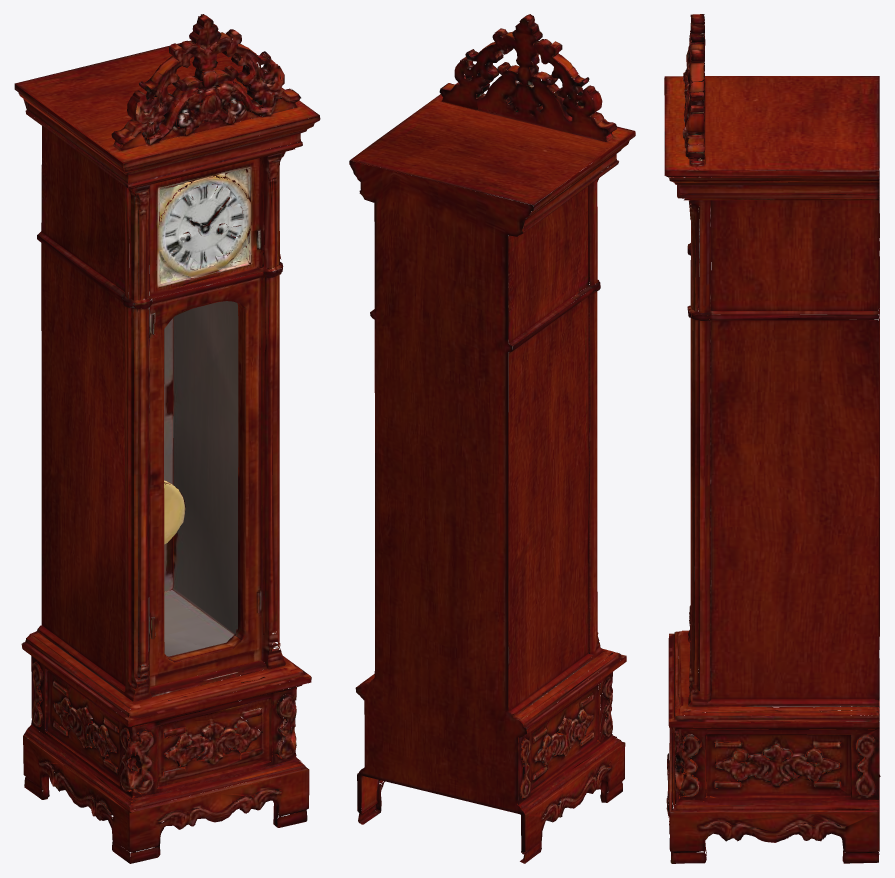
The model's file is grandfather.glb.
The picture shows the model from 3 angles, left to right: view 1: azimuth 30°, elevation 25°; view 2: azimuth 150°, elevation 25°; view 3: azimuth 270°, elevation 25°; orthographic projection. The views are drawn at different scales.
Visible parts, largest first — view 1: grandfather; view 2: grandfather; view 3: grandfather.
Boxes of the visible parts, left/top/right/bottom form: grandfather: left=14, top=14, right=320, bottom=863; grandfather: left=349, top=14, right=635, bottom=863; grandfather: left=664, top=14, right=880, bottom=863.
Size of the model in its own units: 0.2532 by 0.9999 by 0.2428.
Materials: 1 (1 with a texture image).
